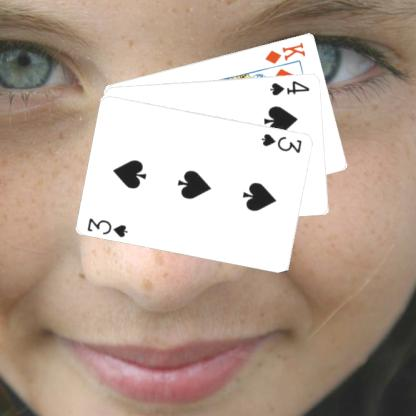3S: (258, 130, 304, 154), (84, 215, 129, 238)
4S: (267, 77, 311, 97)
KD: (262, 39, 307, 65)
